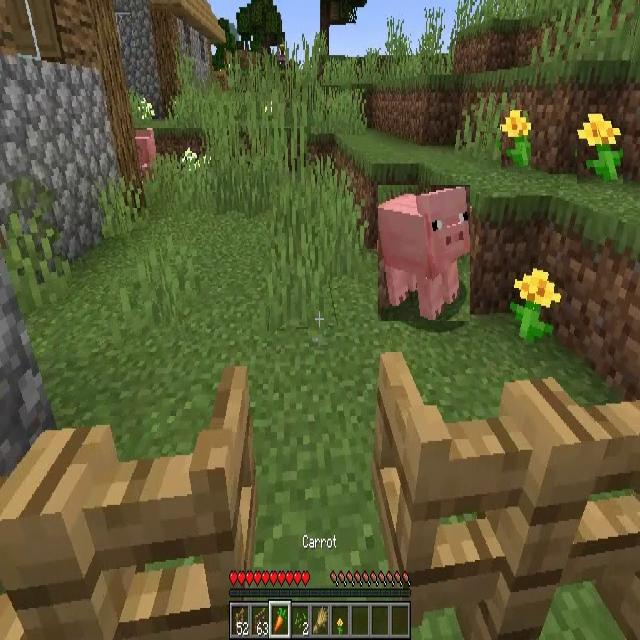flower: (512, 268, 560, 344), (577, 113, 623, 184), (501, 111, 531, 170)
pig: (378, 185, 471, 321)
